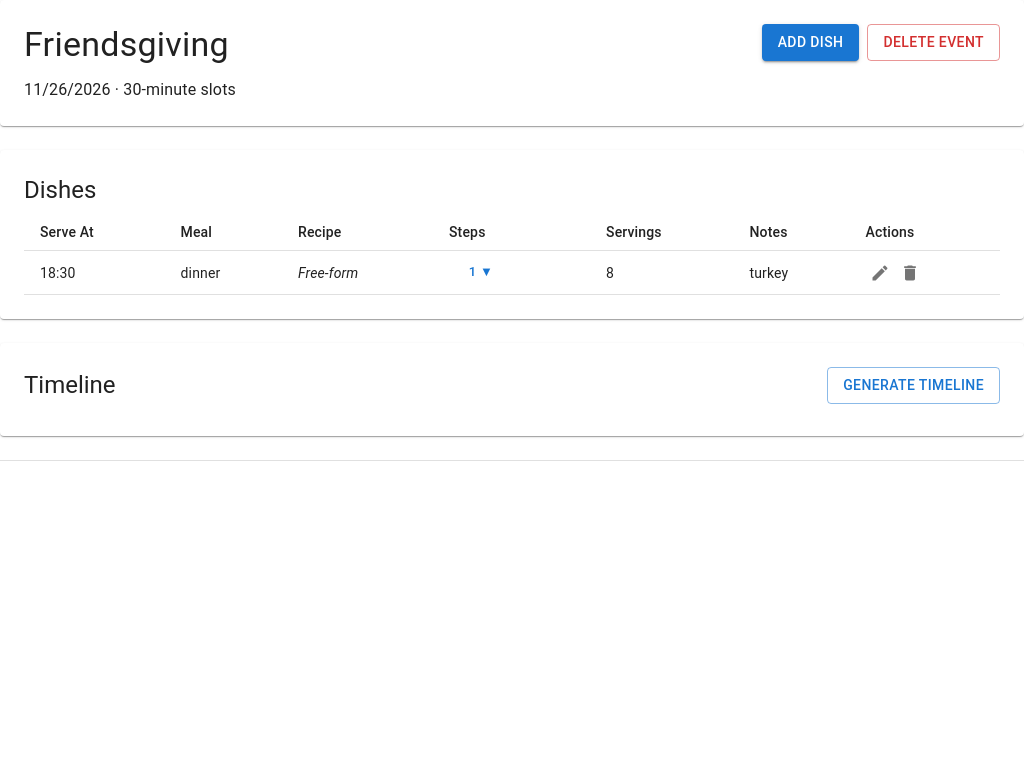
Scenario: EventDetailPage › suggests schedule fixes and applies a shift via updateEventRecipe
The image size is (1024, 768).
expect the heading "Friendsgiving" is shown: met, box 24,24 -> 236,66
Click the button "Generate Timeline" at [914, 385], box 827,367 -> 1000,404
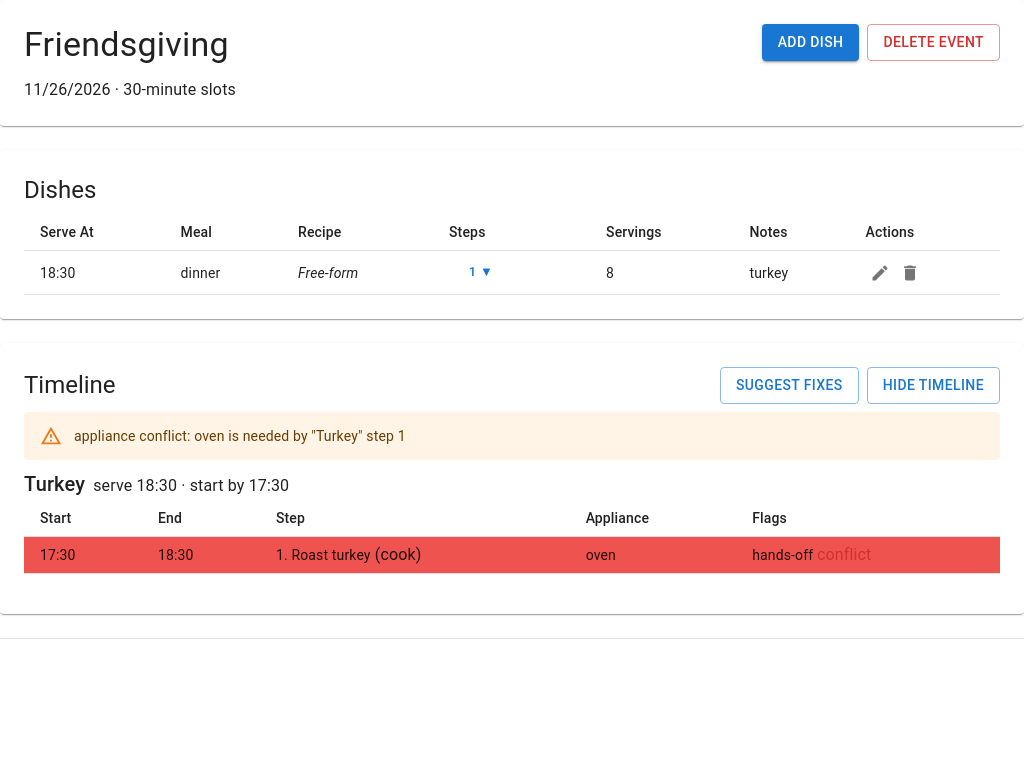
expect the button "Suggest Fixes" is shown: met
Click the button "Suggest Fixes" at [789, 385], box 720,367 -> 859,404
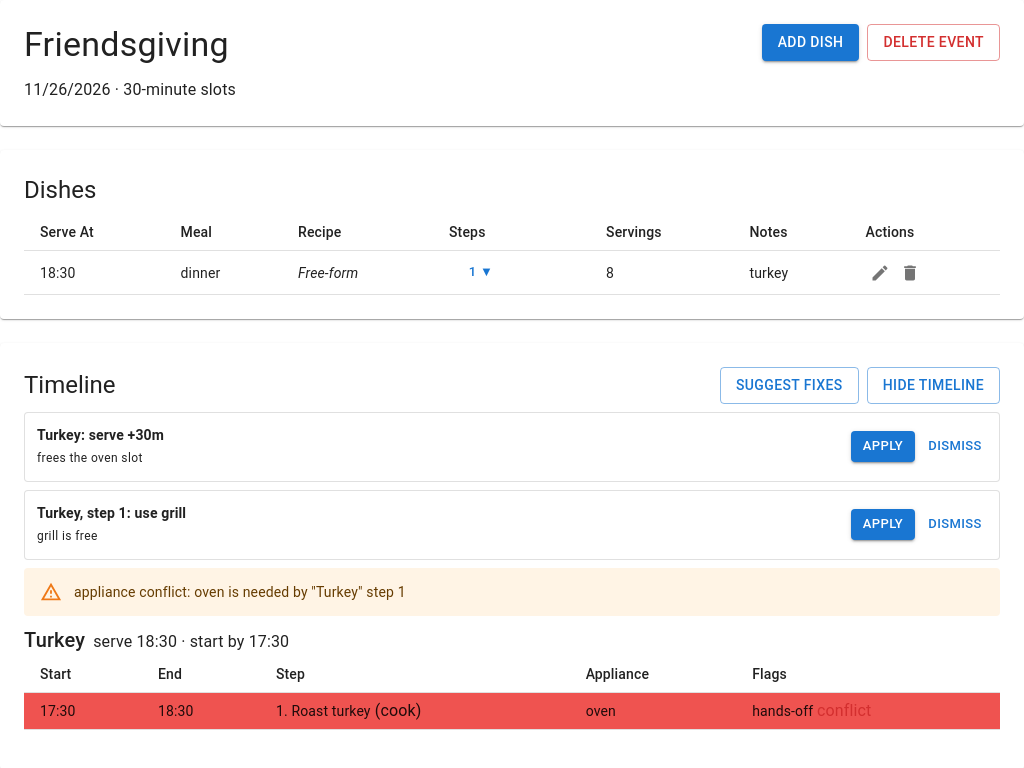
expect the text "Turkey: serve +30m" is shown: met, box 37,424 -> 164,444
expect the text "Turkey, step 1: use grill" is shown: met, box 37,502 -> 186,522
expect the text "frees the oven slot" is shown: met, box 37,450 -> 143,464
Click the button "Apply" in the row of "Turkey: serve +30m" at [883, 447], box 851,431 -> 915,462
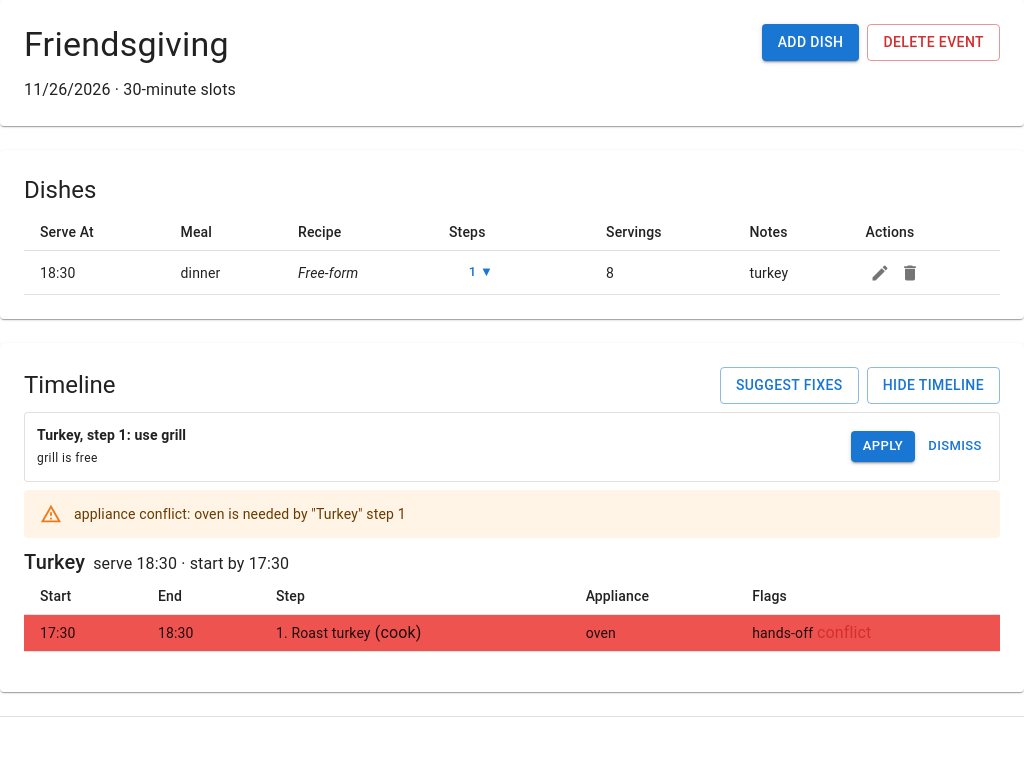
expect the text "Turkey, step 1: use grill" is shown: met, box 37,424 -> 186,444
expect the text "Turkey: serve +30m" is gone: met
